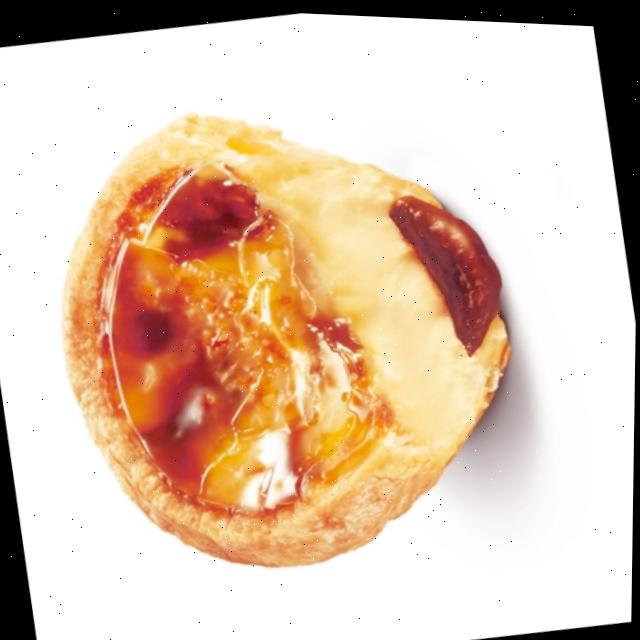炸货点心: (4, 37, 565, 620)
蛋糕甜品: (4, 37, 565, 620)
